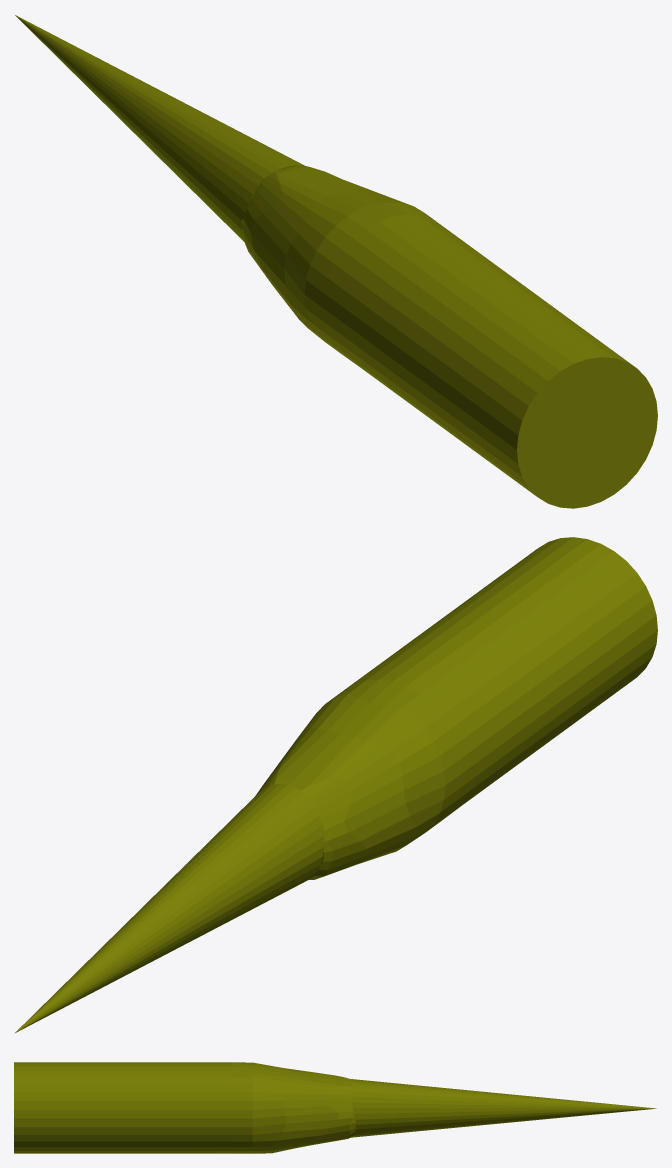
Rendered from Rifle_Bullet.fbx.
The picture shows the model from 3 angles, top to bottom: view 1: azimuth 30°, elevation 25°; view 2: azimuth 150°, elevation 25°; view 3: azimuth 270°, elevation 25°; orthographic projection. The views are drawn at different scales.
Parts seen in each view (by area): view 1: Cylinder; view 2: Cylinder; view 3: Cylinder.
Part boxes in pixels (x1,y1,x2,y2): Cylinder: [15, 15, 657, 508]; Cylinder: [14, 537, 657, 1033]; Cylinder: [14, 1062, 656, 1153].
Bounding box in the file's own units: 164 × 164 × 1154.
